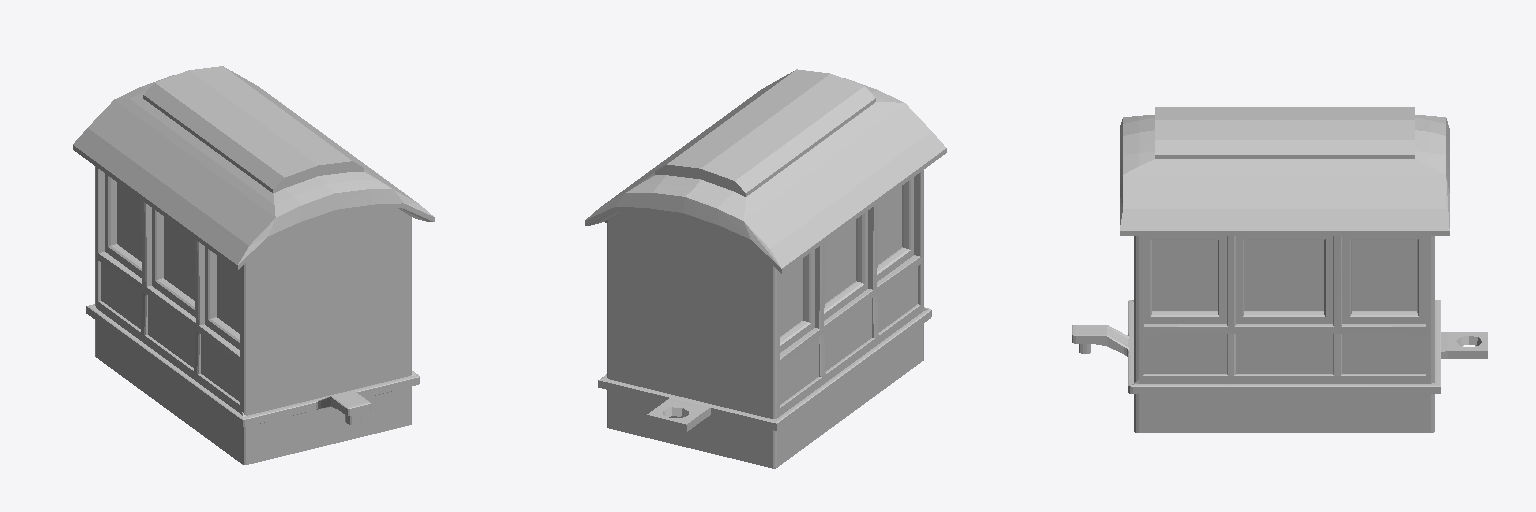
The model's file is SM_wagon_passager.obj.
3 renders of one model, left to right at view 1: azimuth 30°, elevation 25°; view 2: azimuth 150°, elevation 25°; view 3: azimuth 270°, elevation 25°, orthographic.
Parts seen in each view (by area): view 1: wagon; view 2: wagon; view 3: wagon.
Boxes of the visible parts, x1=… form: wagon: x1=73, y1=66, x2=434, y2=464; wagon: x1=585, y1=69, x2=946, y2=468; wagon: x1=1072, y1=107, x2=1487, y2=432.
Size of the model in its own units: 3.36 by 4.45 by 6.15.